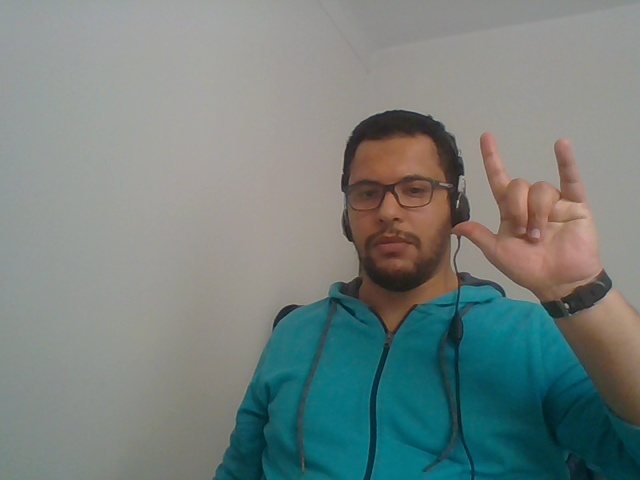iloveyou: (449, 117, 631, 347)
